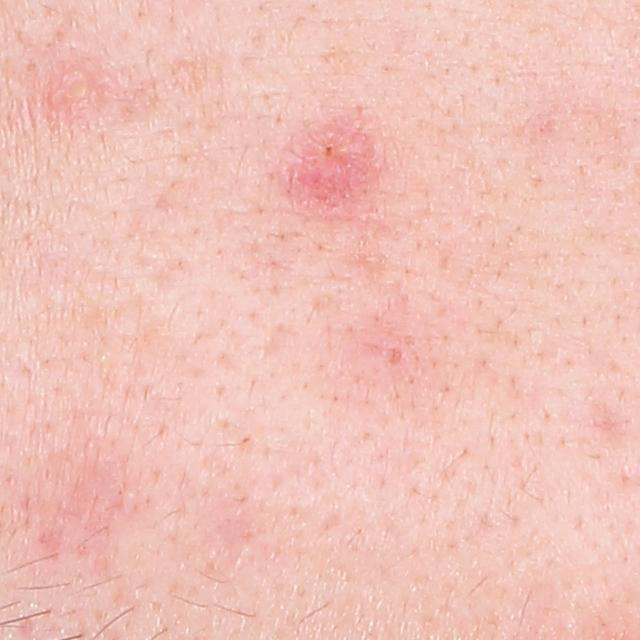papule: (296, 121, 379, 206)
